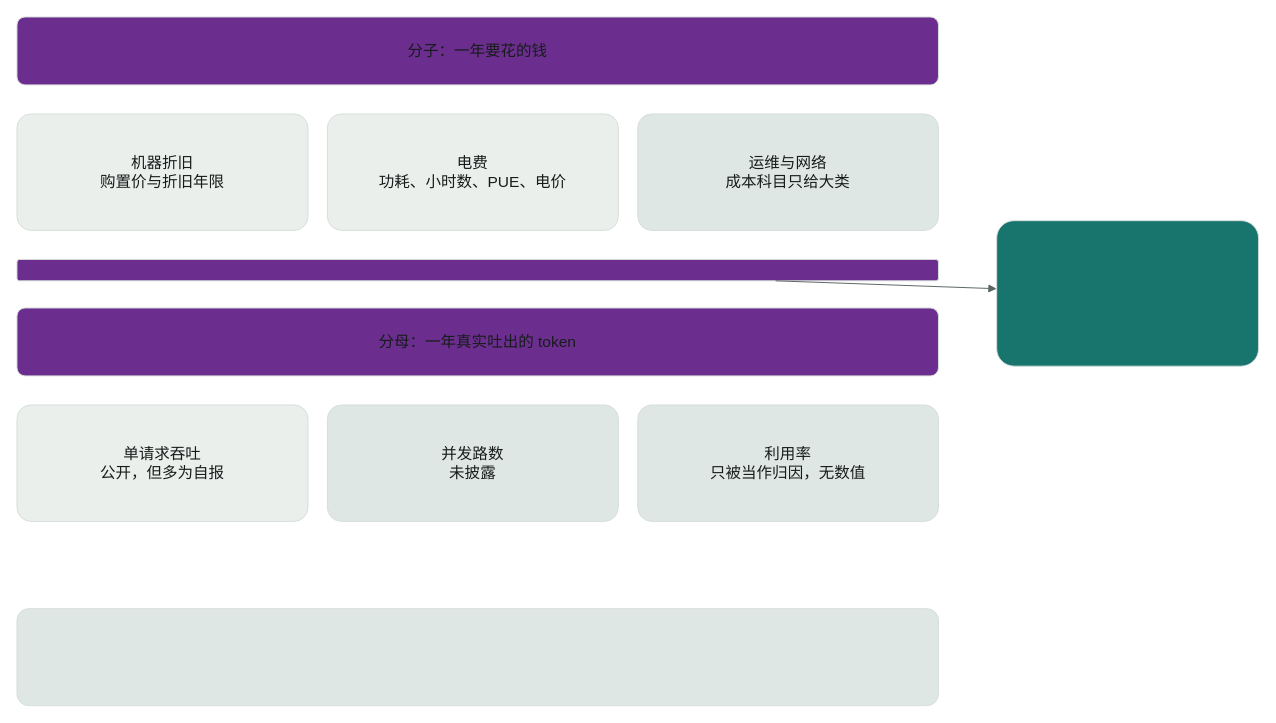
Some shapes in this 1276 by 723 pixel diagram are drawn without their labels. The shapes that lost their labels are listed below. From the top down, each one's box as (x1, y1, x2, y2) in pixels, then its label:
(996, 220, 1259, 366): 每百万 token 的成本 缺任一项，这个商就没有意义
(16, 608, 938, 706): 公开拿到的只有两端：标价与毛利率 区间只能说明结构，量不出单位成本
